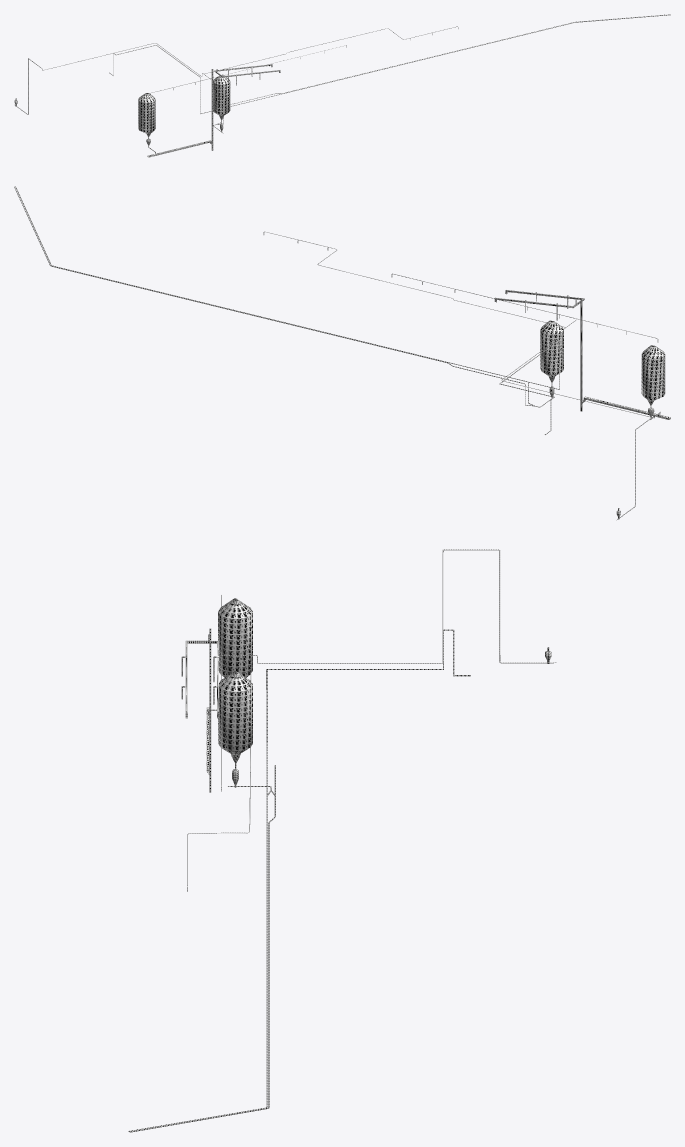
The model's file is 粉料动画.glb.
The picture shows the model from 3 angles, top to bottom: view 1: azimuth 30°, elevation 25°; view 2: azimuth 150°, elevation 25°; view 3: azimuth 270°, elevation 25°; orthographic projection. The views are drawn at different scales.
Parts seen in each view (by area): view 1: 输出管道第一段, 半成品均化桶粉尘动画, 成品均化桶粉尘动画, 充气斜槽粉料动画, M01粉料动画第一段, M01粉料动画第二段, 链式提升机粉料动画; view 2: 输出管道第一段, 半成品均化桶粉尘动画, 成品均化桶粉尘动画, 充气斜槽粉料动画; view 3: 成品均化桶粉尘动画, 半成品均化桶粉尘动画, 输出管道第一段, M01粉料动画第一段.
Boxes of the visible parts, x1=… form: 输出管道第一段: x1=213, y1=14, x2=670, y2=133; 半成品均化桶粉尘动画: x1=138, y1=93, x2=155, y2=133; 成品均化桶粉尘动画: x1=213, y1=74, x2=230, y2=116; 充气斜槽粉料动画: x1=214, y1=64, x2=280, y2=85; M01粉料动画第一段: x1=14, y1=43, x2=204, y2=114; M01粉料动画第二段: x1=205, y1=26, x2=458, y2=73; 链式提升机粉料动画: x1=211, y1=69, x2=213, y2=150; 输出管道第一段: x1=14, y1=186, x2=554, y2=407; 半成品均化桶粉尘动画: x1=641, y1=345, x2=665, y2=401; 成品均化桶粉尘动画: x1=540, y1=320, x2=563, y2=377; 充气斜槽粉料动画: x1=494, y1=289, x2=584, y2=320; 成品均化桶粉尘动画: x1=218, y1=671, x2=252, y2=755; 半成品均化桶粉尘动画: x1=218, y1=598, x2=252, y2=677; 输出管道第一段: x1=128, y1=764, x2=275, y2=1132; M01粉料动画第一段: x1=249, y1=549, x2=556, y2=663.
Bounding box in the file's own units: 244 × 34.48 × 82.19.
Materials: 5 (5 with a texture image).
